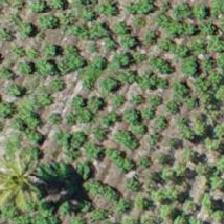coconut_tree: (0, 140, 62, 223)
